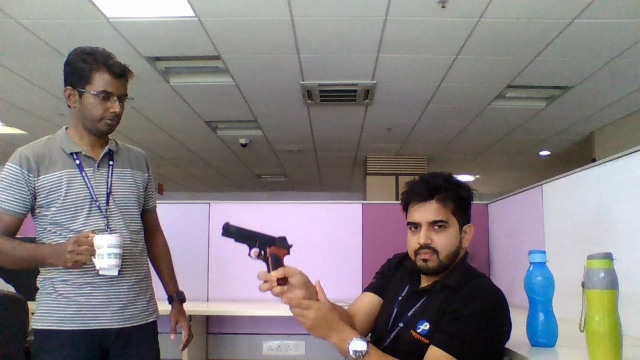gun: (221, 221, 295, 267)
